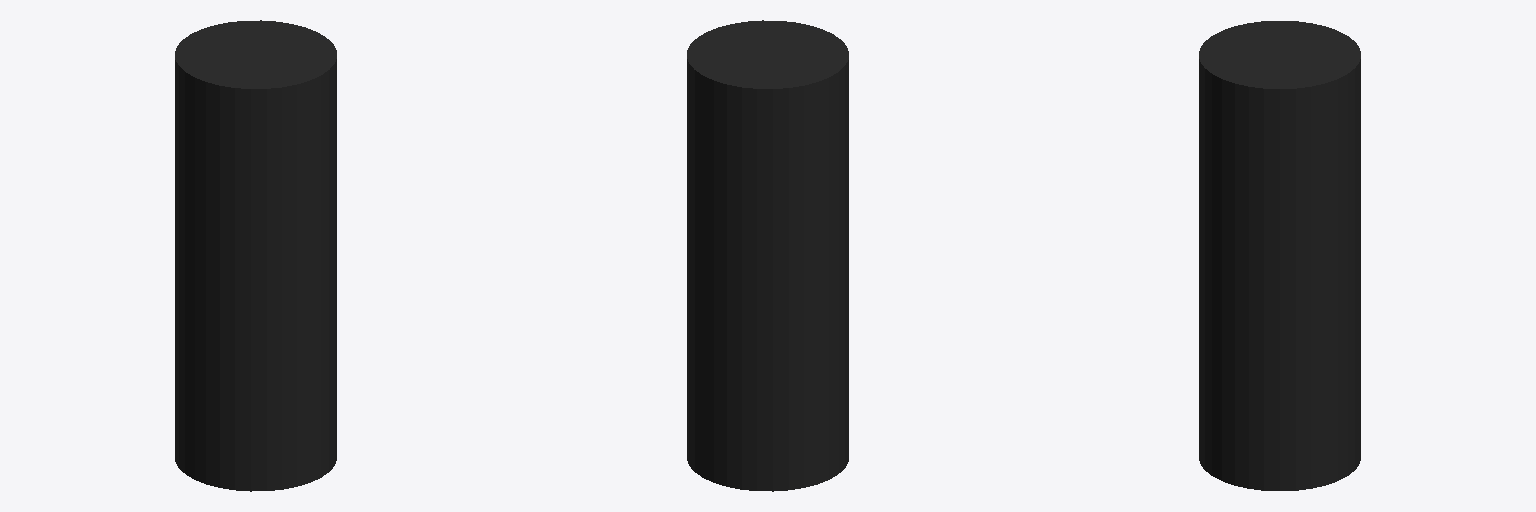
URDF robot description (mount.urdf):
<?xml version="0.0" ?>
<robot name="mount.urdf">
  <link name="baseLink">
    <contact>
      <lateral_friction value="1.0"/>
      <inertia_scaling value="3.0"/>
    </contact>
    <inertial>
      <origin rpy="0 0 0" xyz="0 0 0"/>
      <mass value="0"/>
      <inertia ixx="1" ixy="0" ixz="0" iyy="1" iyz="0" izz="1"/>
    </inertial>
    <visual>
      <origin rpy="0 0 0" xyz="0 0 0"/>
      <geometry>
				<cylinder length="0.4" radius="0.0734"/>
      </geometry>
      <material name="DarkGrey">
        <color rgba="0.2 0.2 0.2 1"/>
      </material>
    </visual>
    <!-- <collision>
      <origin rpy="0 0 0" xyz="0 0 0"/>
      <geometry>
	 	    <cylinder length="0.4" radius="0.0734"/>
      </geometry>
    </collision> -->
  </link>
</robot>

--- Render facts (derived) ---
3 views of the same robot in one strip: view 1: azimuth 30°, elevation 25°; view 2: azimuth 150°, elevation 25°; view 3: azimuth 270°, elevation 25° (orthographic).
Model mount.urdf with 1 links and 0 joints (none), rooted at baseLink, posed every joint at zero.
Links seen in each view (by area): view 1: baseLink; view 2: baseLink; view 3: baseLink.
Link boxes in pixels (x1,y1,x2,y2): baseLink: (175, 20, 336, 491); baseLink: (687, 20, 848, 491); baseLink: (1199, 21, 1360, 490).
Size in the robot's own frame: 0.1468 by 0.1468 by 0.4 metres.
Geometry: primitives only (box / cylinder / sphere), no mesh files.